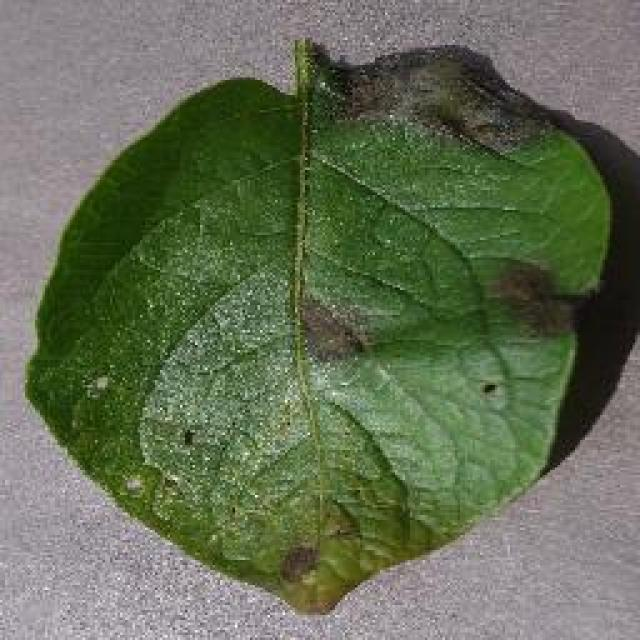Potato___Late_blight: (20, 31, 620, 615)
